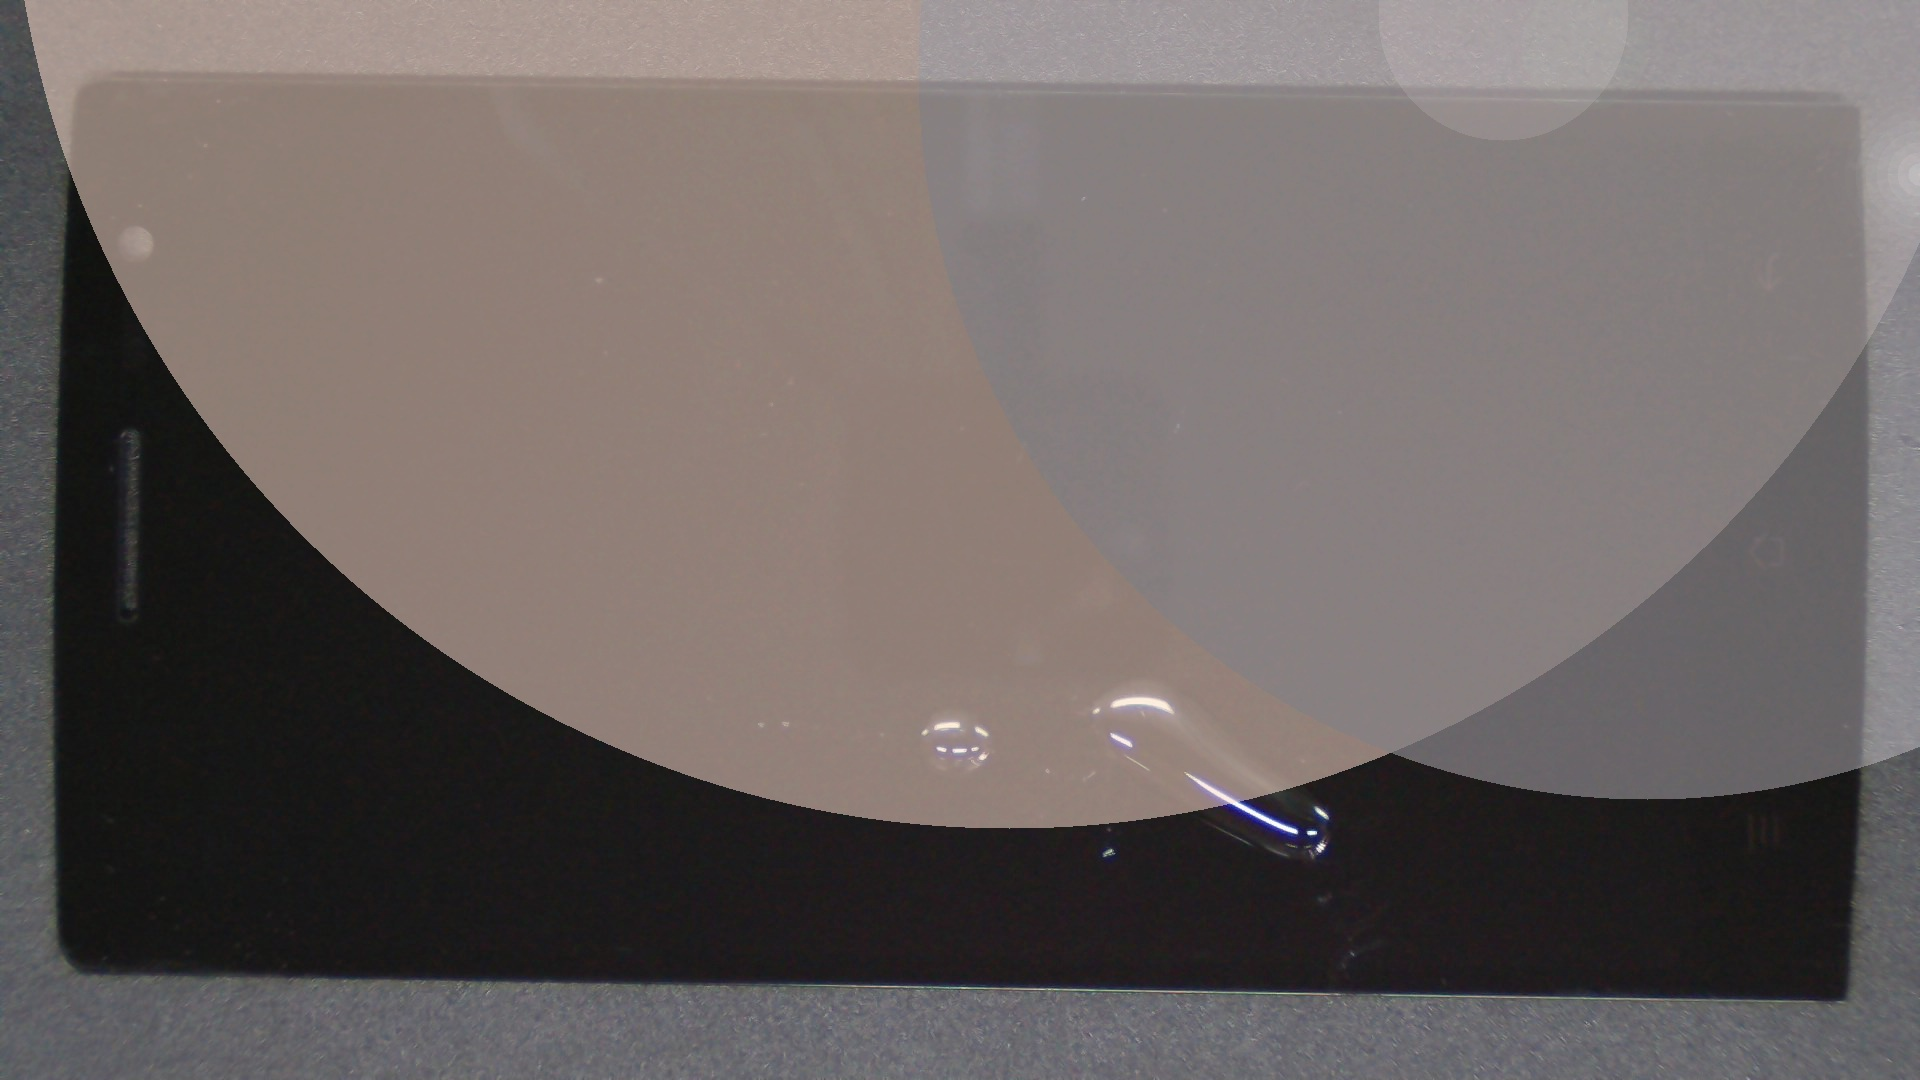oil: (568, 339, 1702, 1019), (473, 353, 1419, 1064)
